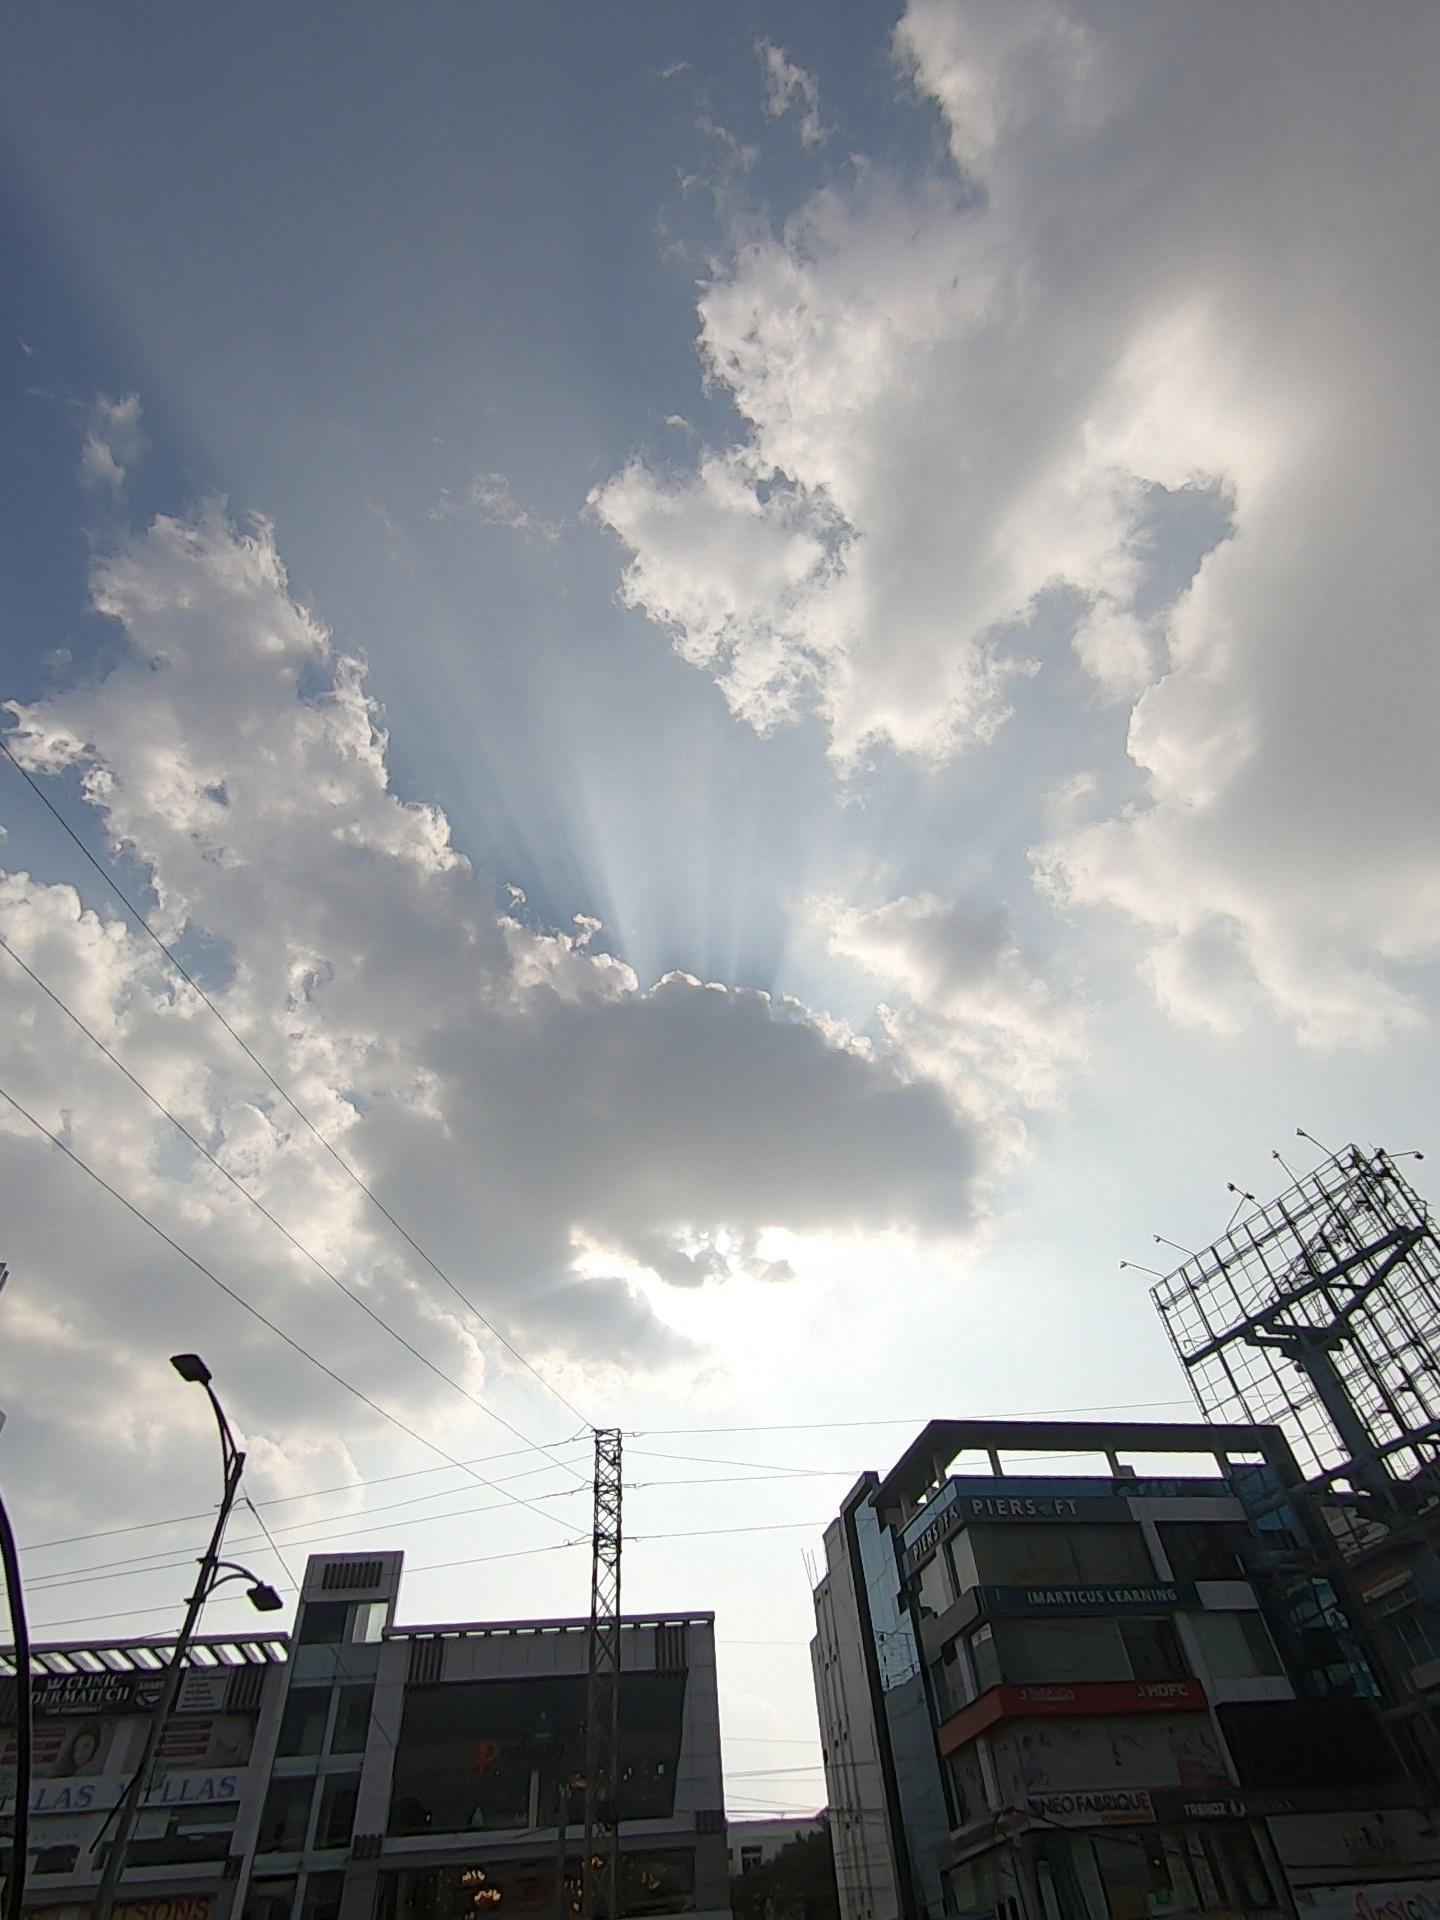off: (180, 1281, 292, 1672)
